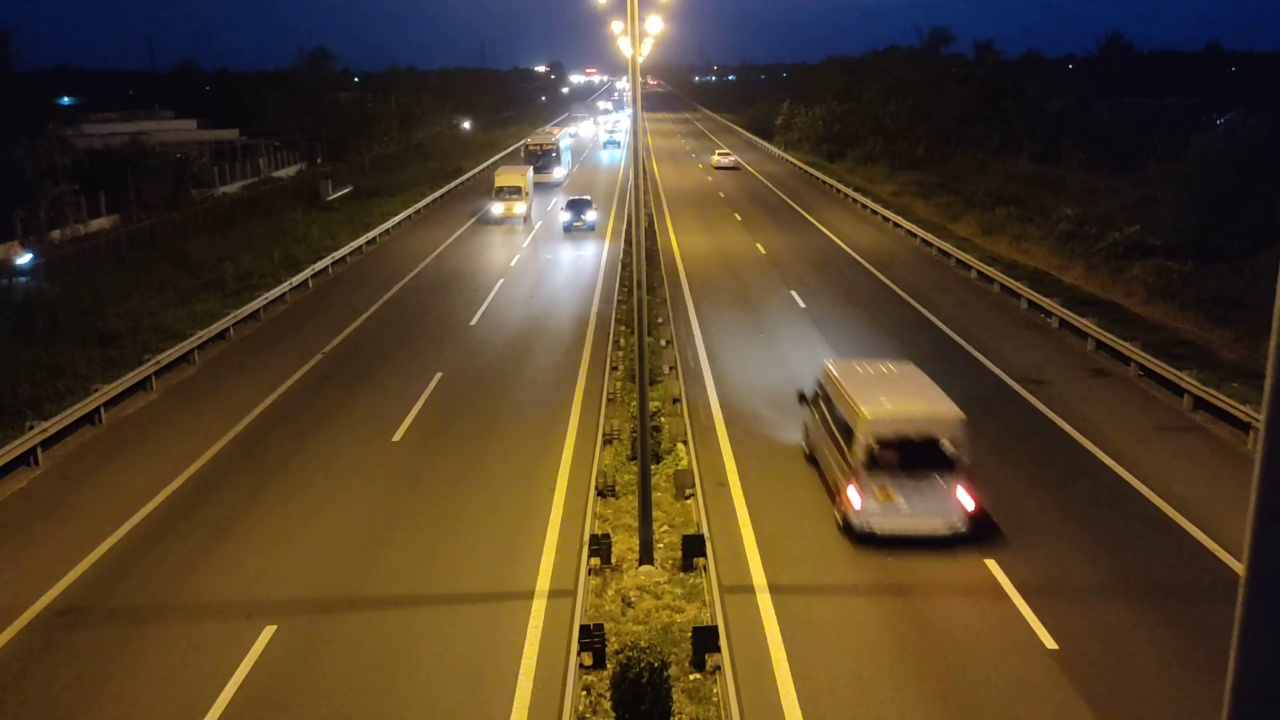car: (561, 195, 599, 234), (710, 149, 741, 170)
truck: (795, 355, 991, 545), (483, 162, 536, 226)
